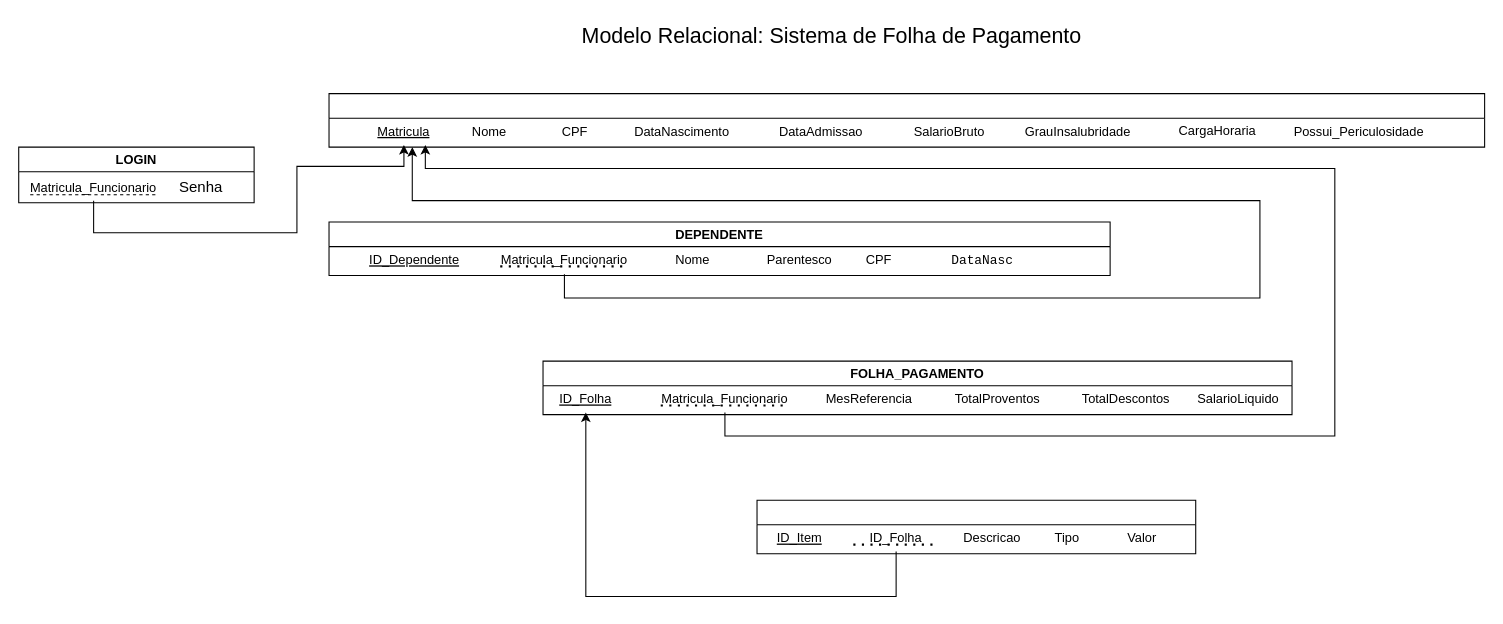
Some shapes in this 1503 by 624 pixel diagram are drawn without their labels. Each missing label, with the box of its shape:
FUNCIONARIO: (328, 93, 1485, 147)
ITEM_FOLHA: (756, 499, 1196, 554)
